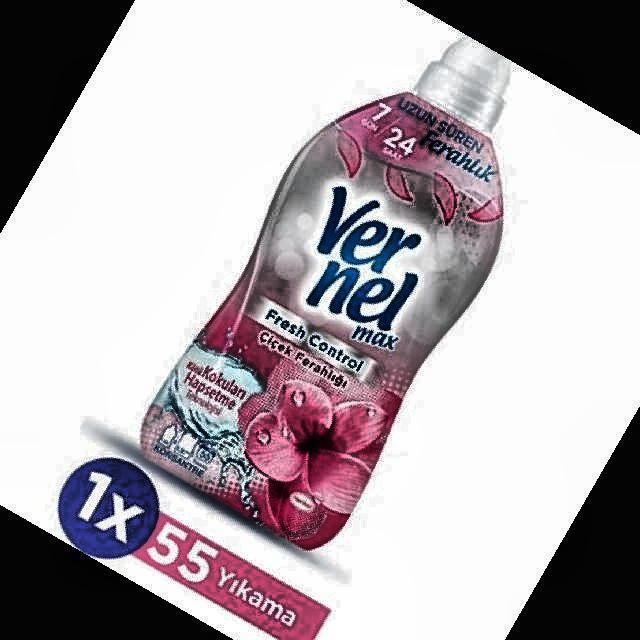plastic: (141, 41, 509, 549)
